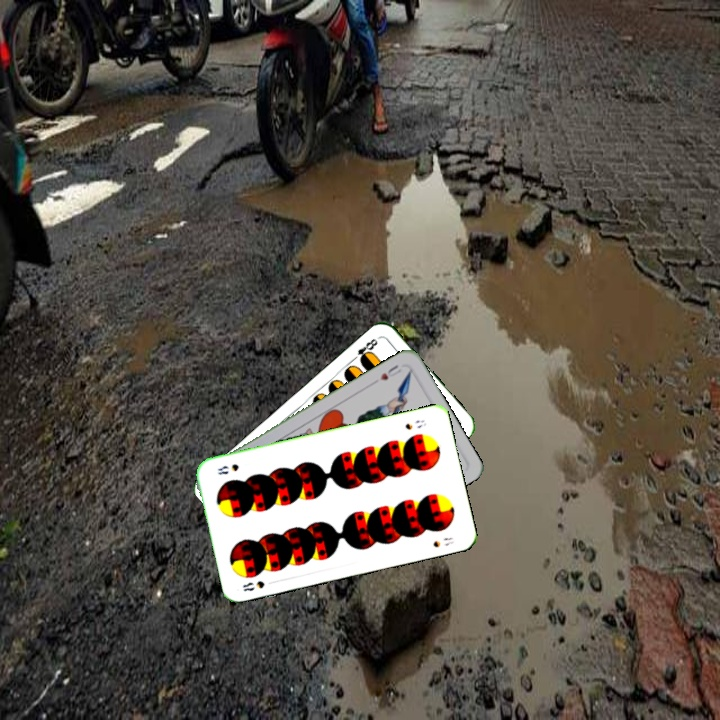E8: (348, 334, 380, 365)
HU: (376, 360, 405, 383)
S8: (238, 577, 267, 594), (401, 416, 429, 432)
